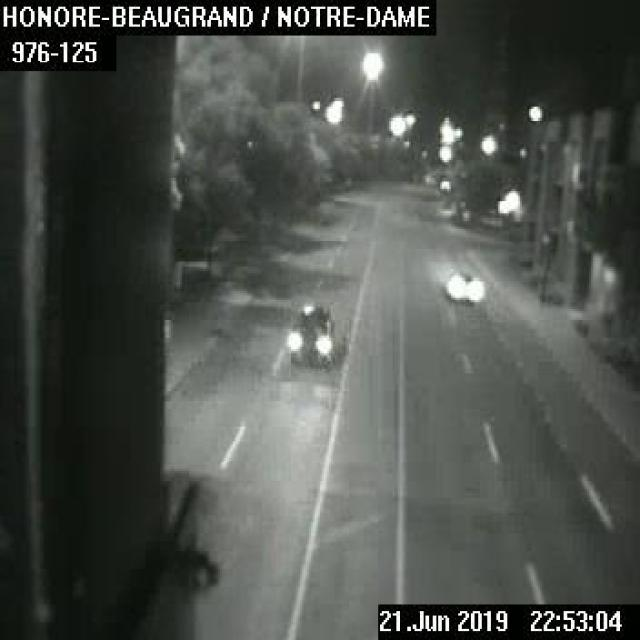vehicle: (286, 302, 334, 362), (442, 268, 485, 304)
